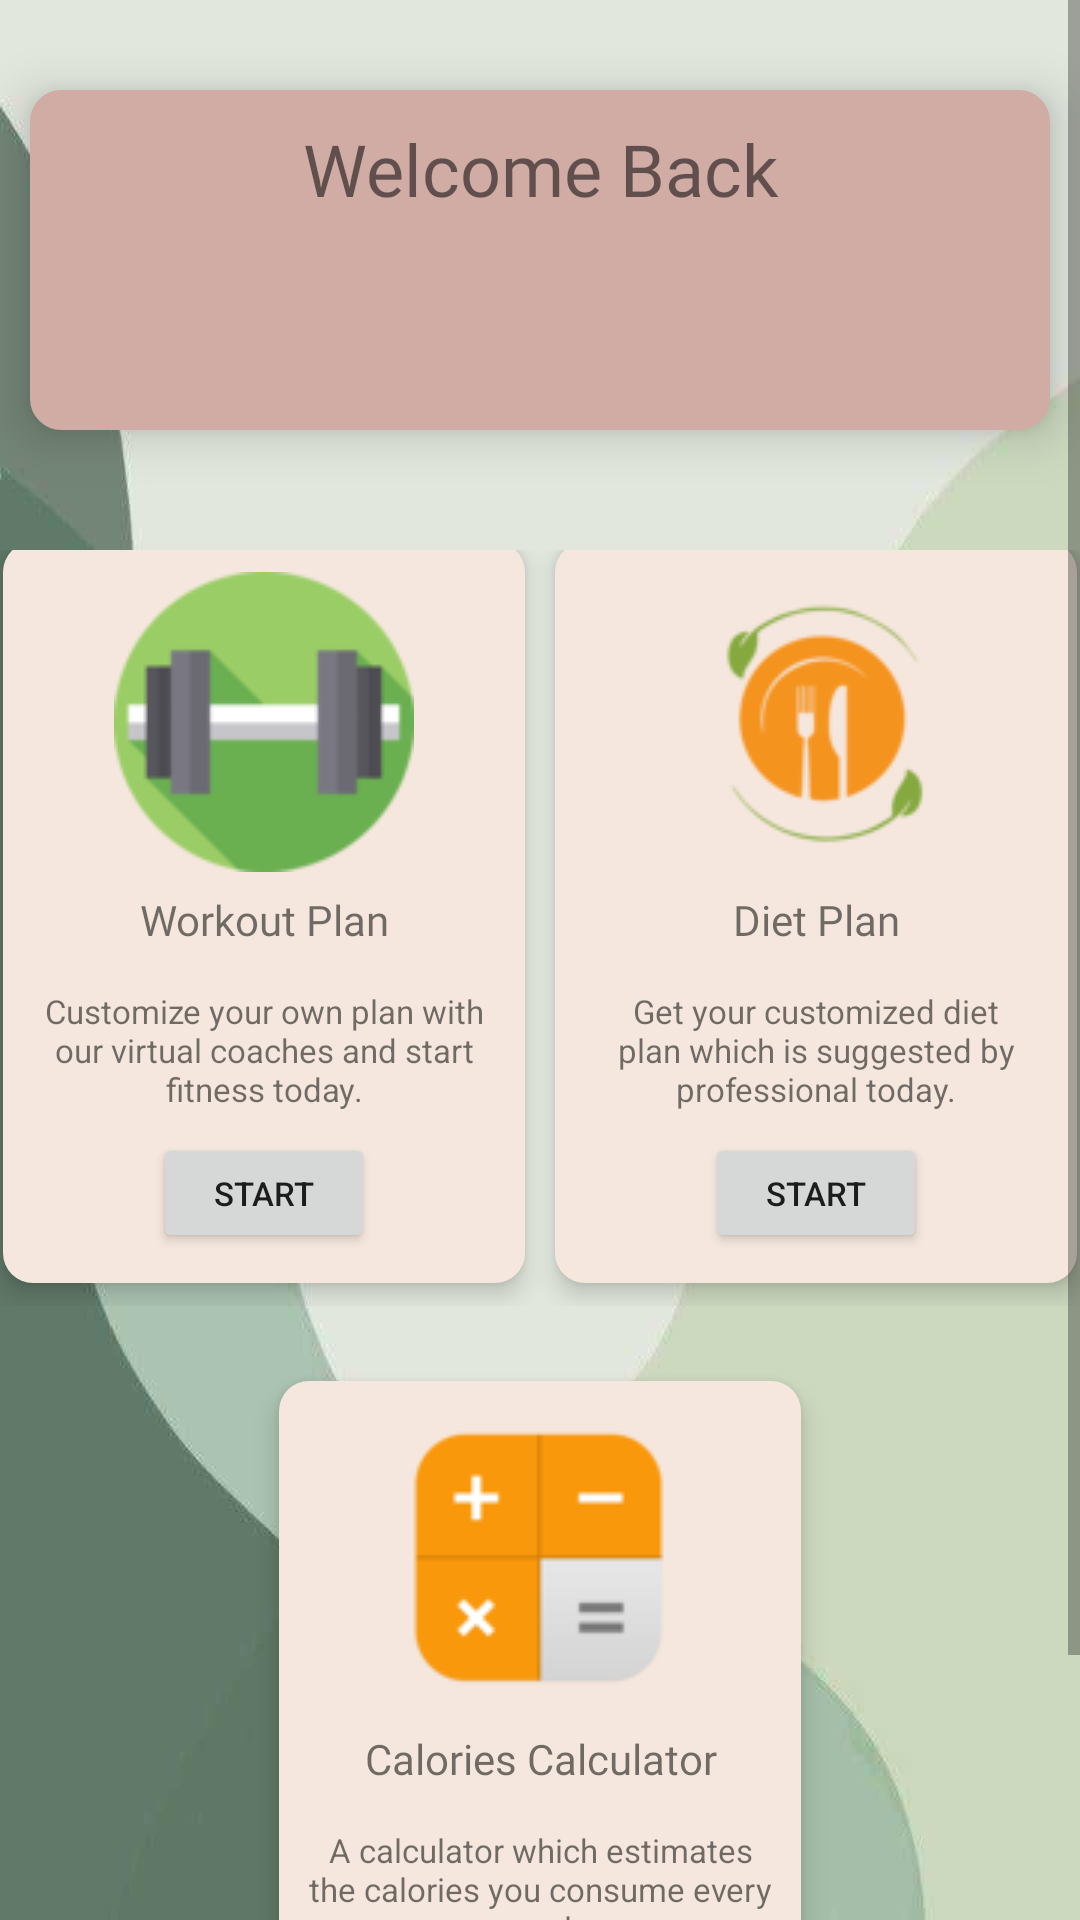

Named icons in this screenshot (1080*1920) and their centers, (x=x, y=y):
dumbbell: (x=264, y=722)
